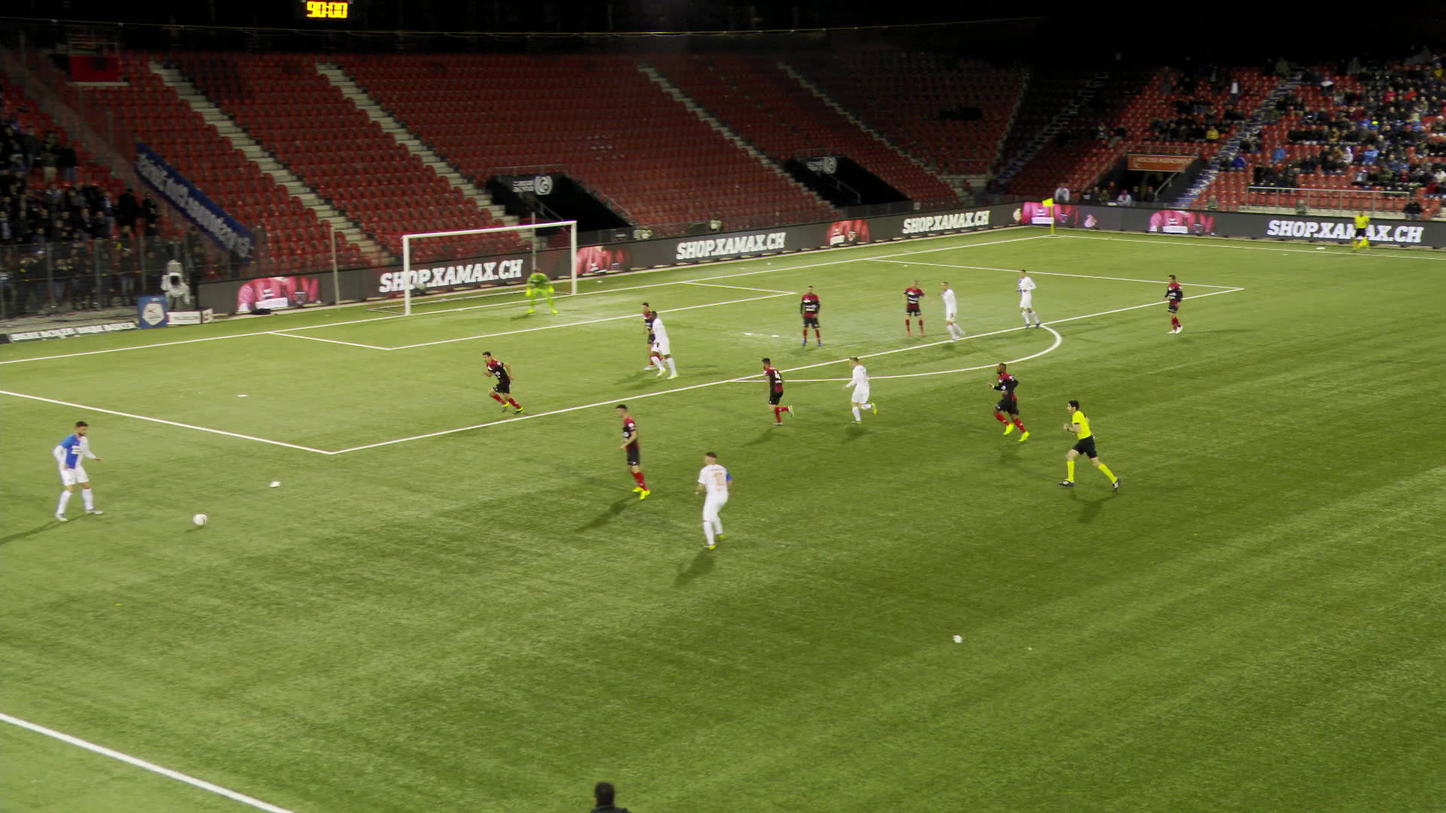ball: (200, 513, 214, 525)
player: (44, 421, 93, 520), (686, 446, 723, 549), (609, 404, 642, 499), (987, 364, 1027, 440), (757, 356, 795, 425), (840, 355, 876, 425), (480, 352, 520, 415), (642, 310, 668, 377), (895, 279, 925, 336), (1157, 275, 1185, 334), (633, 302, 657, 369), (933, 280, 958, 343), (516, 269, 549, 313), (1011, 270, 1036, 327), (793, 285, 815, 347)
referee: (1060, 401, 1112, 492), (1343, 208, 1362, 251)
